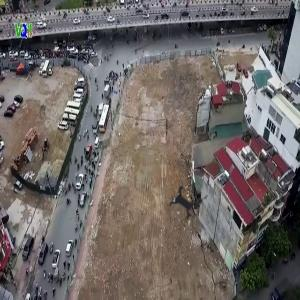drone: (152, 166, 223, 237)
